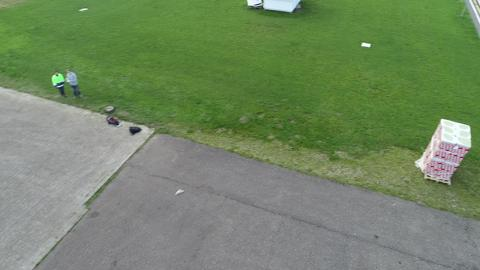RockwoolPallet: (421, 118, 473, 184)
